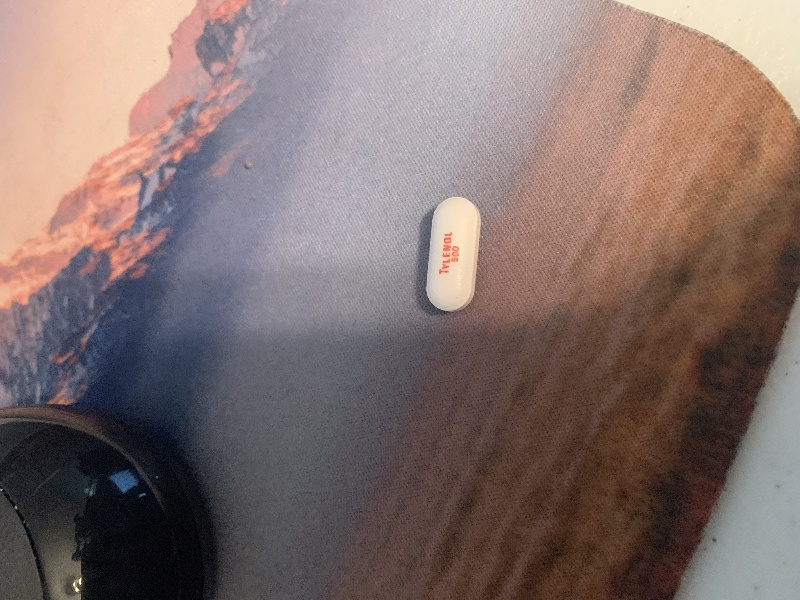Tylenol: (421, 192, 485, 318)
